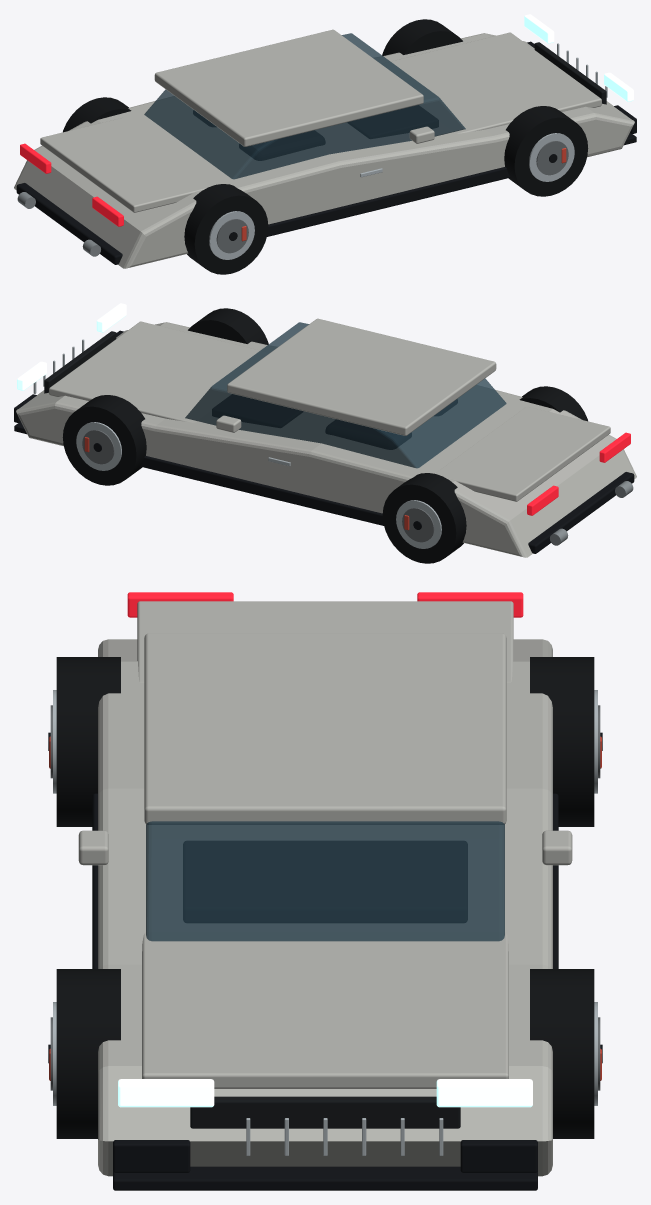
File: lambo_veneno.glb
The picture shows the model from 3 angles, top to bottom: view 1: azimuth 30°, elevation 25°; view 2: azimuth 150°, elevation 25°; view 3: azimuth 270°, elevation 25°; orthographic projection. The views are drawn at different scales.
Parts seen in each view (by area): view 1: sculpted_body, roof, hood_center, glasshouse, rear_deck, front_right_wheel_tire, rear_right_wheel_tire, side_skirt_1, front_left_wheel_tire, dashboard, rear_diffuser, seat_1 (+10 smaller); view 2: sculpted_body, roof, hood_center, glasshouse, rear_deck, front_left_wheel_tire, rear_left_wheel_tire, side_skirt_-1, front_right_wheel_tire, dashboard, rear_diffuser, seat_-1 (+10 smaller); view 3: roof, sculpted_body, hood_center, glasshouse, dashboard, rear_deck, front_splitter, front_left_wheel_tire, front_right_wheel_tire, front_grille, rear_left_wheel_tire, rear_right_wheel_tire (+10 smaller).
Boxes of the visible parts, x1=… form: sculpted_body: x1=14, y1=33, x2=634, y2=268; roof: x1=154, y1=29, x2=423, y2=146; hood_center: x1=382, y1=32, x2=601, y2=133; glasshouse: x1=144, y1=33, x2=465, y2=179; rear_deck: x1=40, y1=117, x2=215, y2=212; front_right_wheel_tire: x1=504, y1=106, x2=588, y2=196; rear_right_wheel_tire: x1=184, y1=184, x2=268, y2=274; side_skirt_1: x1=267, y1=167, x2=510, y2=236; front_left_wheel_tire: x1=382, y1=19, x2=462, y2=55; dashboard: x1=348, y1=105, x2=438, y2=138; rear_diffuser: x1=16, y1=183, x2=122, y2=264; seat_1: x1=239, y1=131, x2=324, y2=160; sculpted_body: x1=16, y1=322, x2=636, y2=557; roof: x1=227, y1=318, x2=496, y2=435; hood_center: x1=49, y1=321, x2=268, y2=422; glasshouse: x1=185, y1=322, x2=506, y2=468; rear_deck: x1=435, y1=406, x2=610, y2=501; front_left_wheel_tire: x1=62, y1=395, x2=146, y2=485; rear_left_wheel_tire: x1=382, y1=473, x2=466, y2=563; side_skirt_-1: x1=140, y1=456, x2=383, y2=525; front_right_wheel_tire: x1=188, y1=308, x2=268, y2=344; dashboard: x1=212, y1=394, x2=302, y2=427; rear_diffuser: x1=528, y1=472, x2=634, y2=553; seat_-1: x1=326, y1=420, x2=411, y2=449; roof: x1=144, y1=633, x2=506, y2=824; sculpted_body: x1=98, y1=639, x2=552, y2=1176; hood_center: x1=142, y1=932, x2=508, y2=1088; glasshouse: x1=146, y1=821, x2=504, y2=941; dashboard: x1=183, y1=841, x2=467, y2=922; rear_deck: x1=137, y1=601, x2=513, y2=682; front_splitter: x1=113, y1=1166, x2=537, y2=1190; front_left_wheel_tire: x1=530, y1=969, x2=594, y2=1138; front_right_wheel_tire: x1=56, y1=969, x2=120, y2=1138; front_grille: x1=190, y1=1096, x2=460, y2=1128; rear_left_wheel_tire: x1=530, y1=657, x2=594, y2=826; rear_right_wheel_tire: x1=56, y1=657, x2=120, y2=826.
Size of the model in its own units: 5.37 by 1.06 by 2.41.
